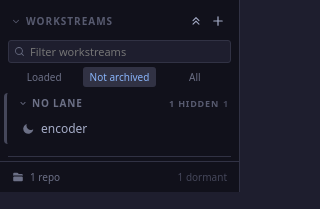
Test: workstream list search across filter stops › says so when the only matches are under another stop
Type "media" into the field with test id "ws-search-input".
click(120, 52); type("media")  # box left=8, top=40, right=231, bottom=63
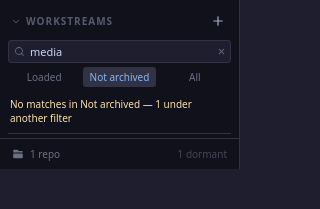
Expected: the text with test id "ws-search-elsewhere" shows "1", left=155, top=97, right=161, bottom=111
